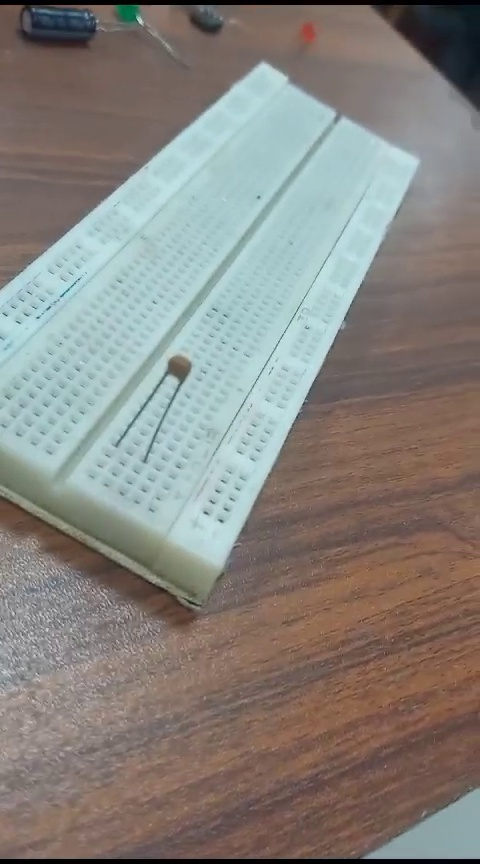ceramic capacitor: (112, 347, 200, 471)
